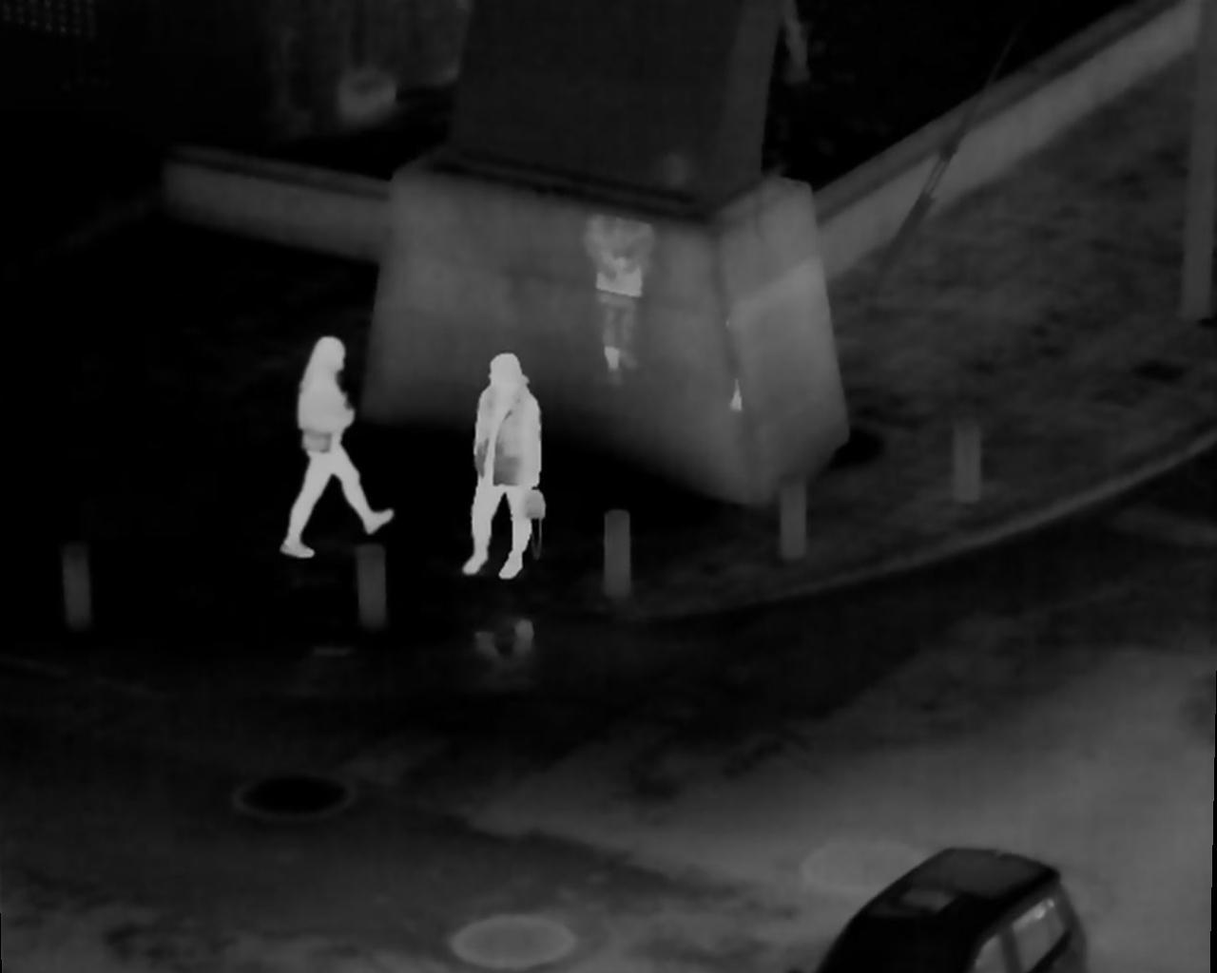person: (281, 336, 386, 556), (469, 350, 545, 582)
